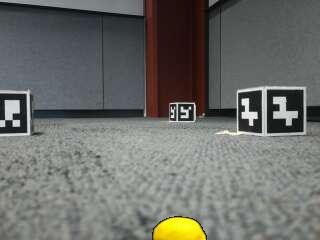lemon: (153, 218, 205, 240)
